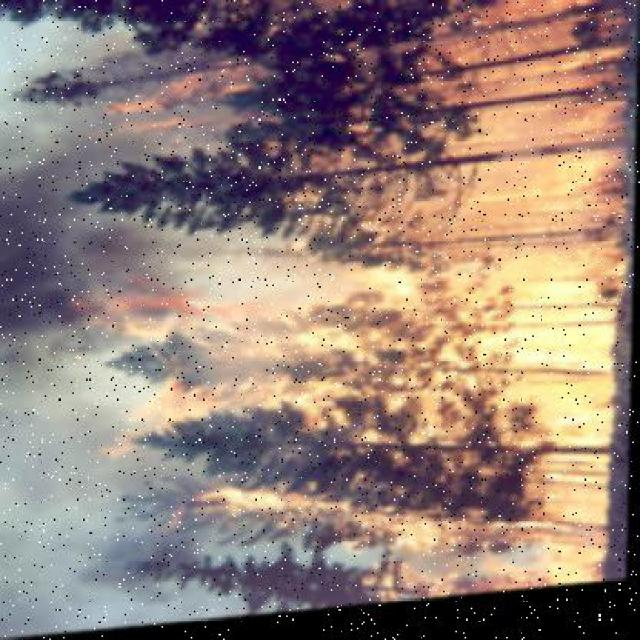fire: (114, 56, 611, 631)
